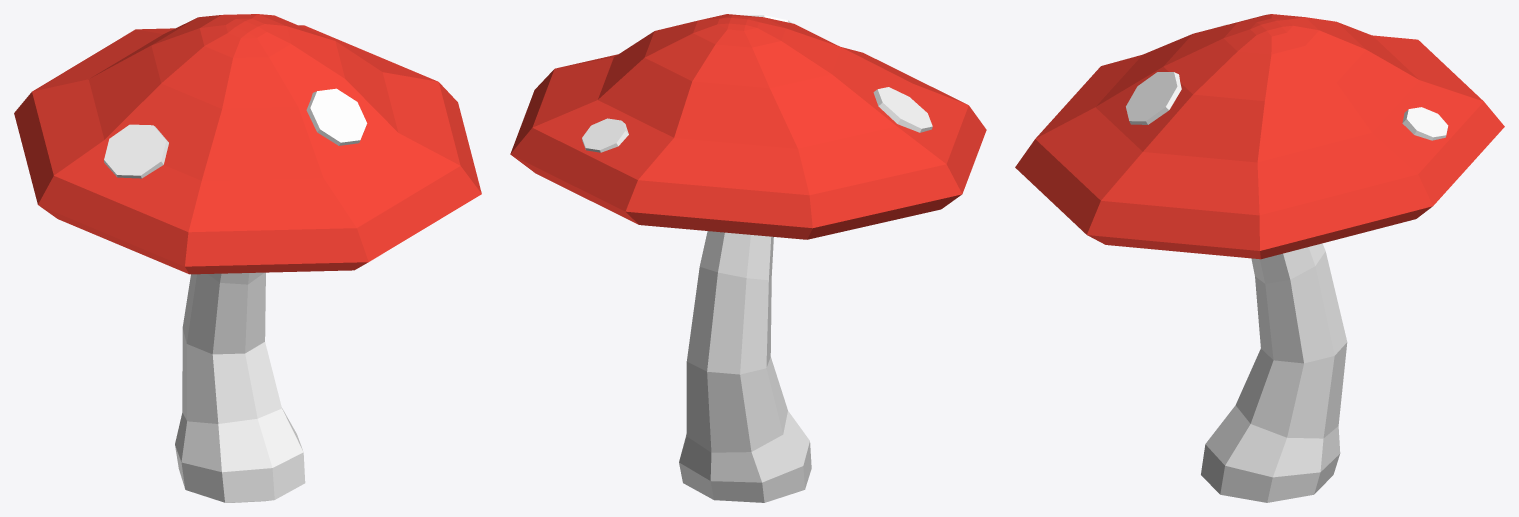
Rendered from Mushroom.glb.
The picture shows the model from 3 angles, left to right: view 1: azimuth 30°, elevation 25°; view 2: azimuth 150°, elevation 25°; view 3: azimuth 270°, elevation 25°; orthographic projection.
Visible parts, largest first — view 1: mushroom_Circle.006; view 2: mushroom_Circle.006; view 3: mushroom_Circle.006.
Boxes of the visible parts, x1=… form: mushroom_Circle.006: x1=14, y1=14, x2=481, y2=502; mushroom_Circle.006: x1=510, y1=14, x2=986, y2=502; mushroom_Circle.006: x1=1015, y1=14, x2=1504, y2=502.
Bounding box in the file's own units: 1.92 × 1.99 × 1.91.
